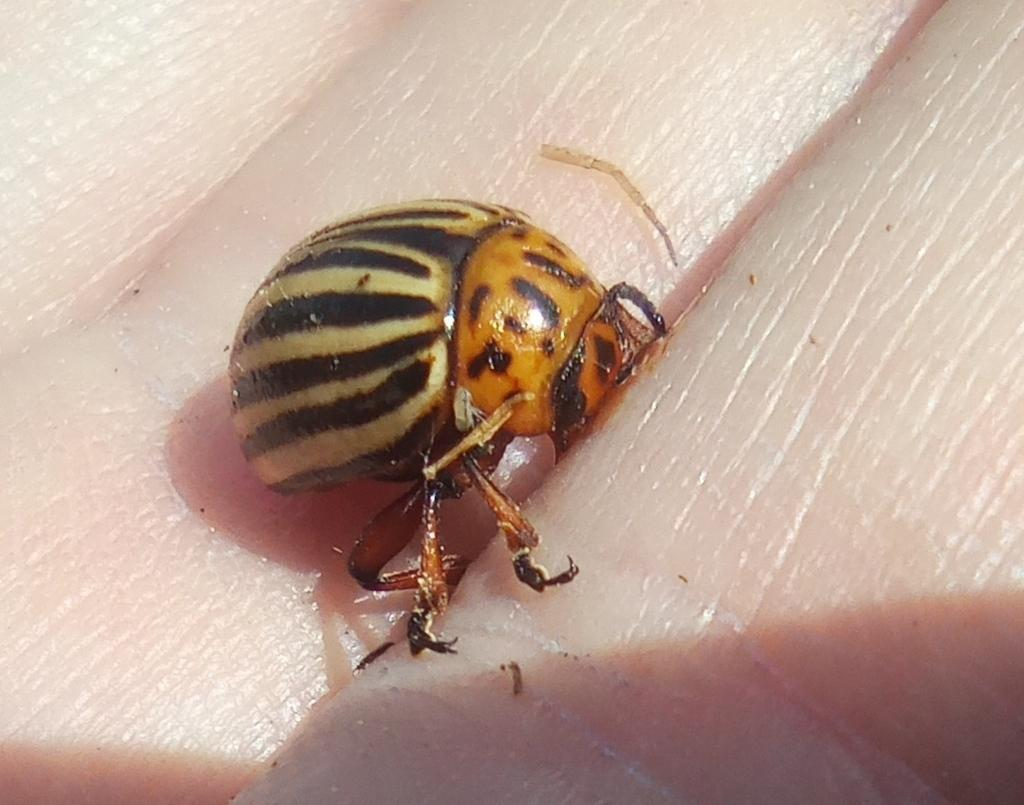potato_beetle: (170, 134, 715, 684)
